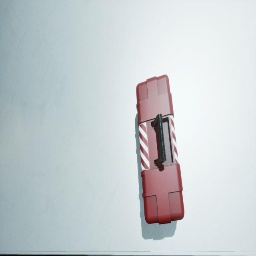FirstAidBox ,: (136, 74, 184, 224)
